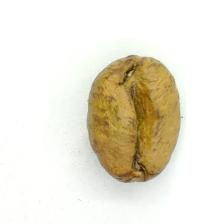NG: (91, 56, 166, 178)
